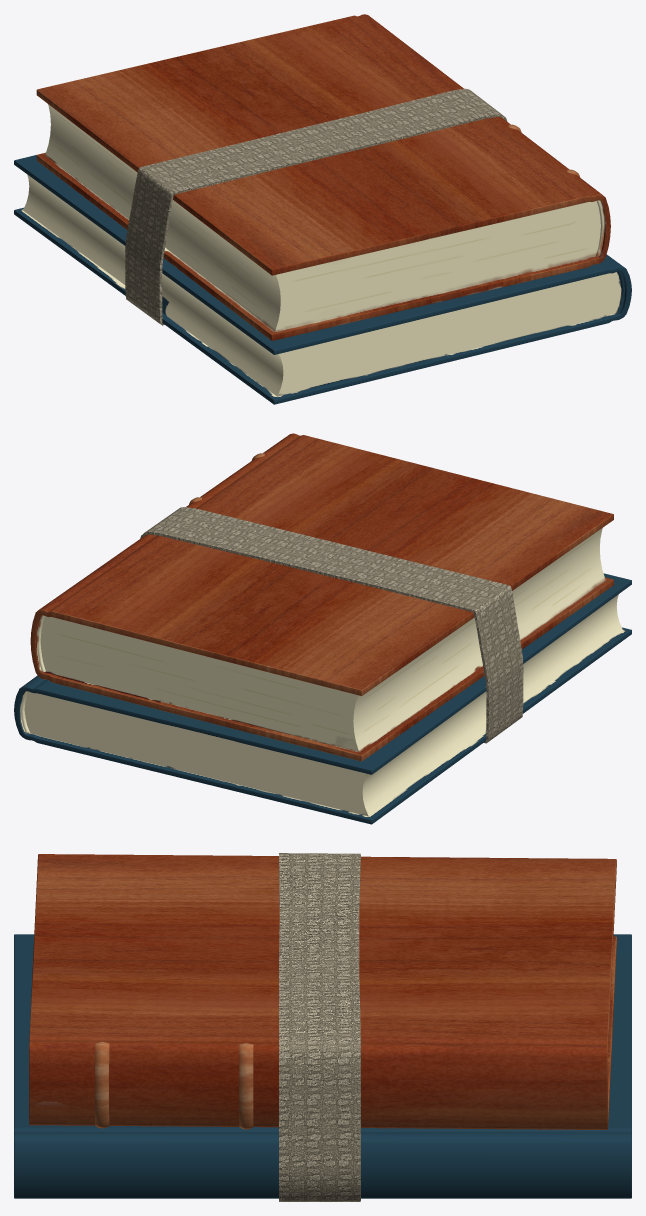
The model's file is books.glb.
The picture shows the model from 3 angles, top to bottom: view 1: azimuth 30°, elevation 25°; view 2: azimuth 150°, elevation 25°; view 3: azimuth 270°, elevation 25°; orthographic projection. The views are drawn at different scales.
Visible parts, largest first — view 1: books_geo (×2), strap_geo; view 2: books_geo (×2), strap_geo; view 3: books_geo (×2), strap_geo.
Boxes of the visible parts, x1=… form: books_geo (×2): x1=14, y1=14, x2=631, y2=404; strap_geo: x1=125, y1=88, x2=507, y2=325; books_geo (×2): x1=14, y1=433, x2=631, y2=824; strap_geo: x1=140, y1=507, x2=523, y2=743; books_geo (×2): x1=14, y1=854, x2=631, y2=1198; strap_geo: x1=279, y1=853, x2=360, y2=1201.
Bounding box in the file's own units: 21.63 × 7.44 × 26.83.
3 materials, 3 textured.
